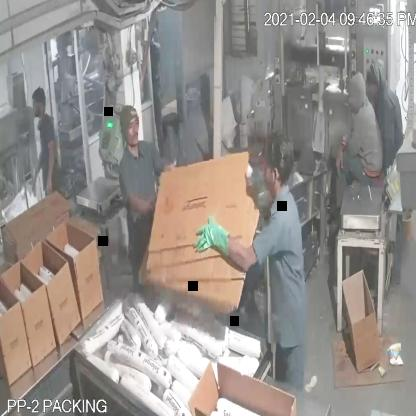glove: (192, 210, 256, 278)
no_glove: (124, 173, 160, 217), (46, 132, 60, 202)
